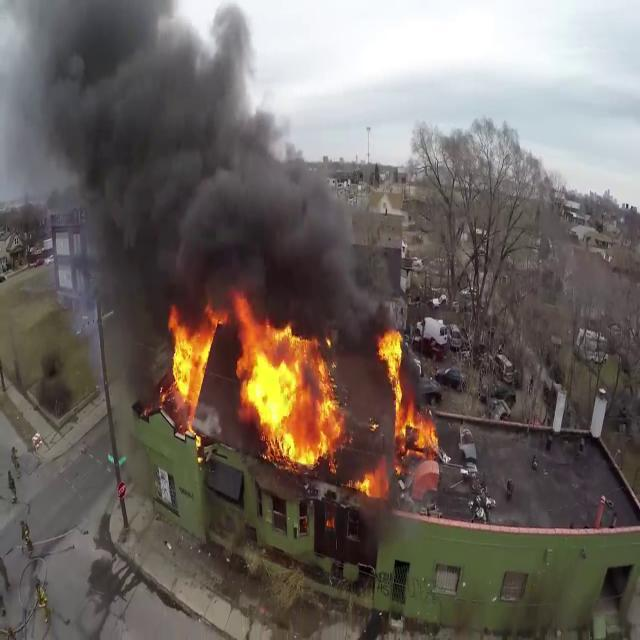Fire: (236, 312, 346, 468), (378, 324, 438, 454), (164, 310, 214, 428), (350, 462, 390, 502)
Smoke: (6, 0, 378, 339)
